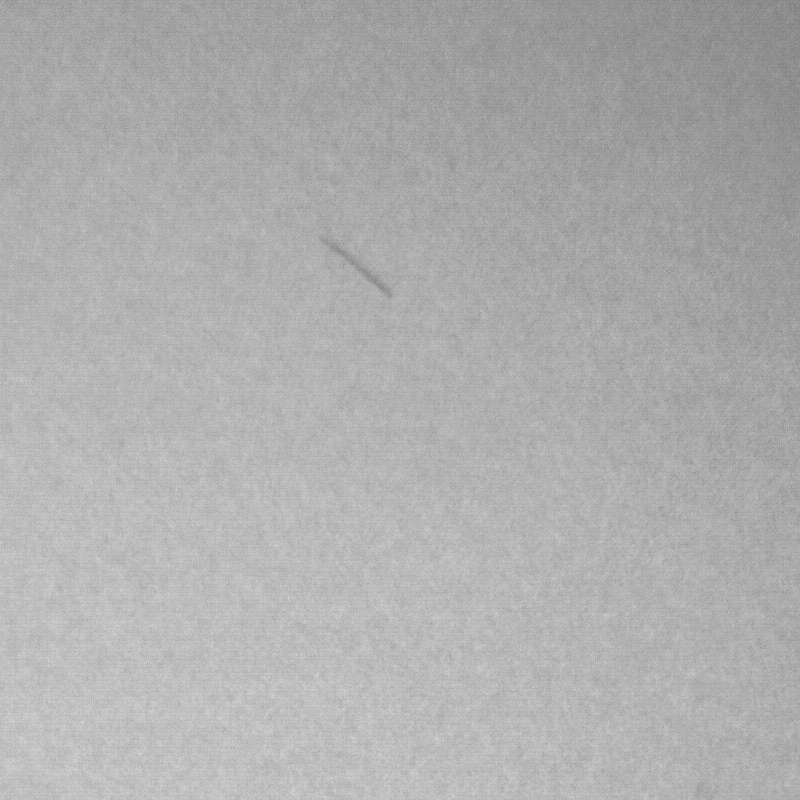defect: (325, 239, 397, 298)
